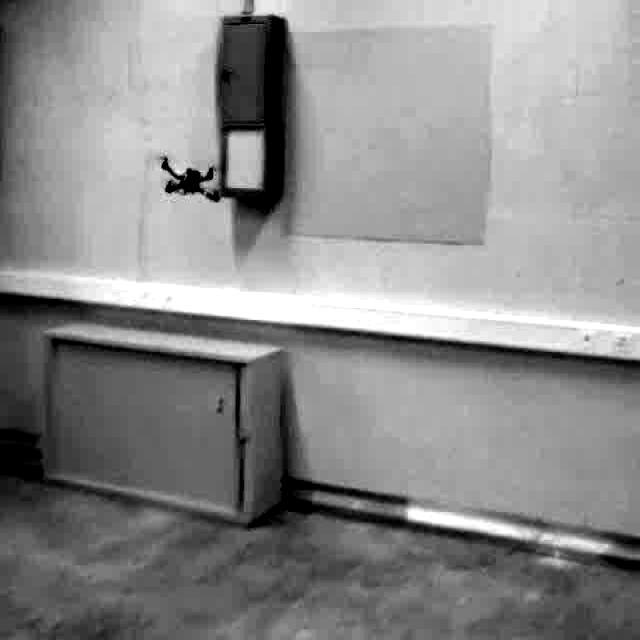drone: (157, 146, 226, 206)
